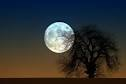moon: (42, 21, 76, 54)
